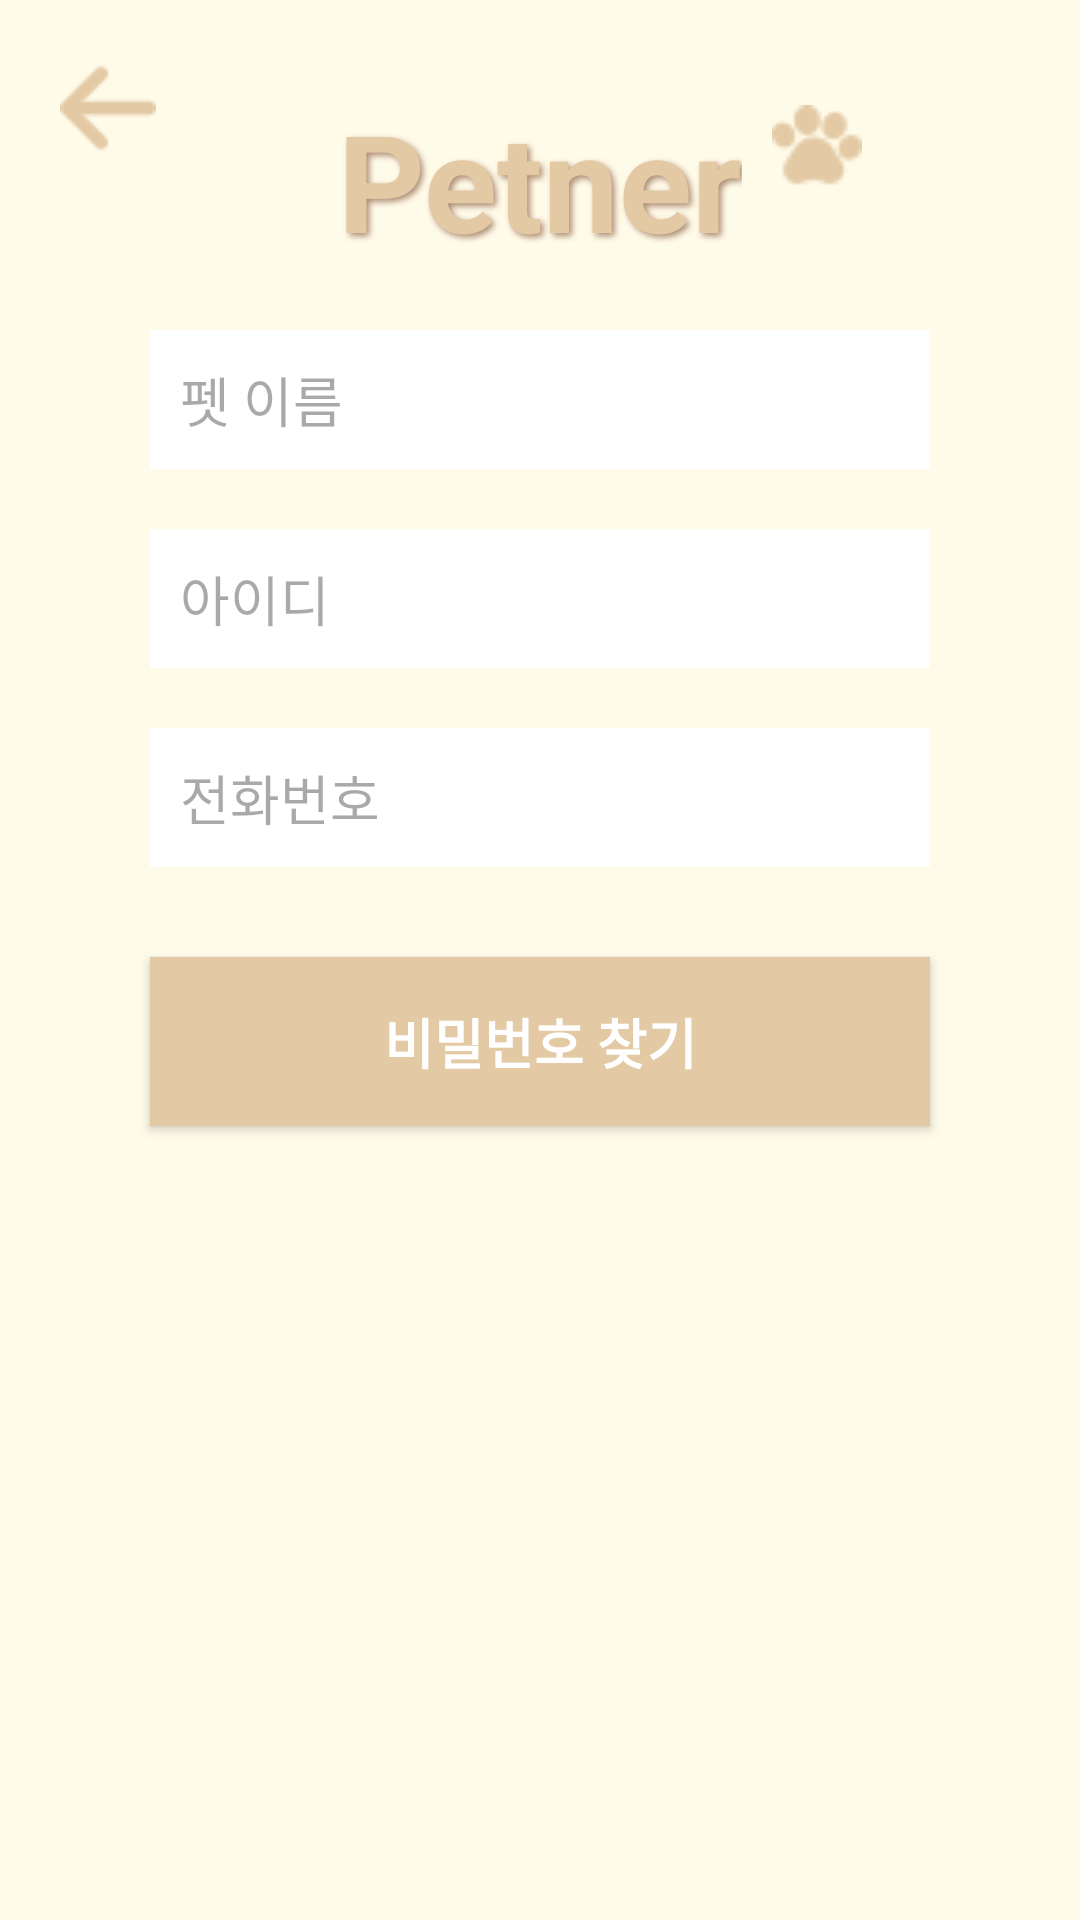

Screen size 1080x1920. Icon name, then its box in pixels as (x1, y1, x2, y2):
arrow: (60, 66, 156, 150)
pawprint: (772, 105, 862, 184)
